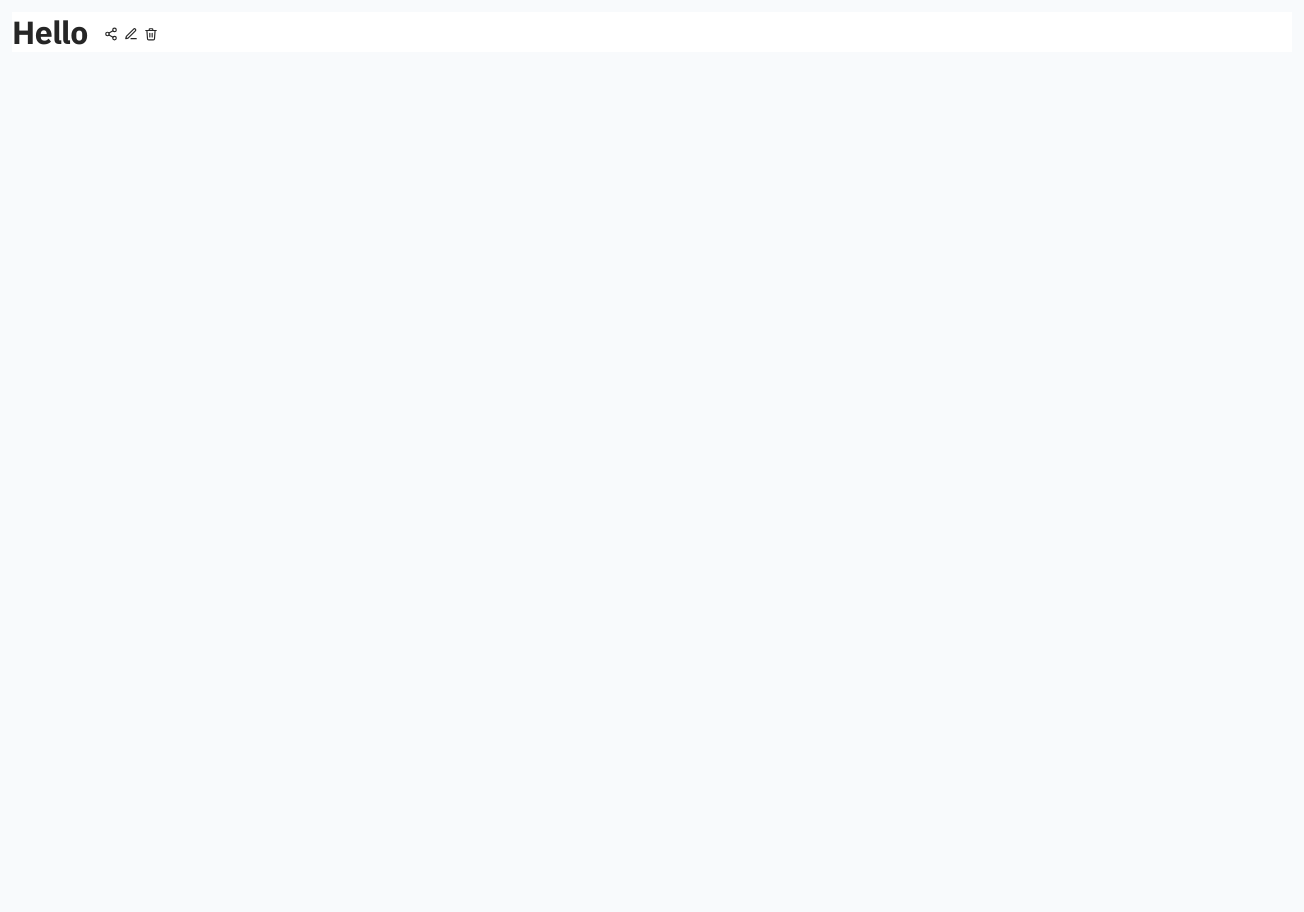
it: InlineMarkdownEditor 문서 내 찾기 › 편집 모드: 원문 기준으로 세고 순환한다
This screenshot has width=1304, height=912.
Press e
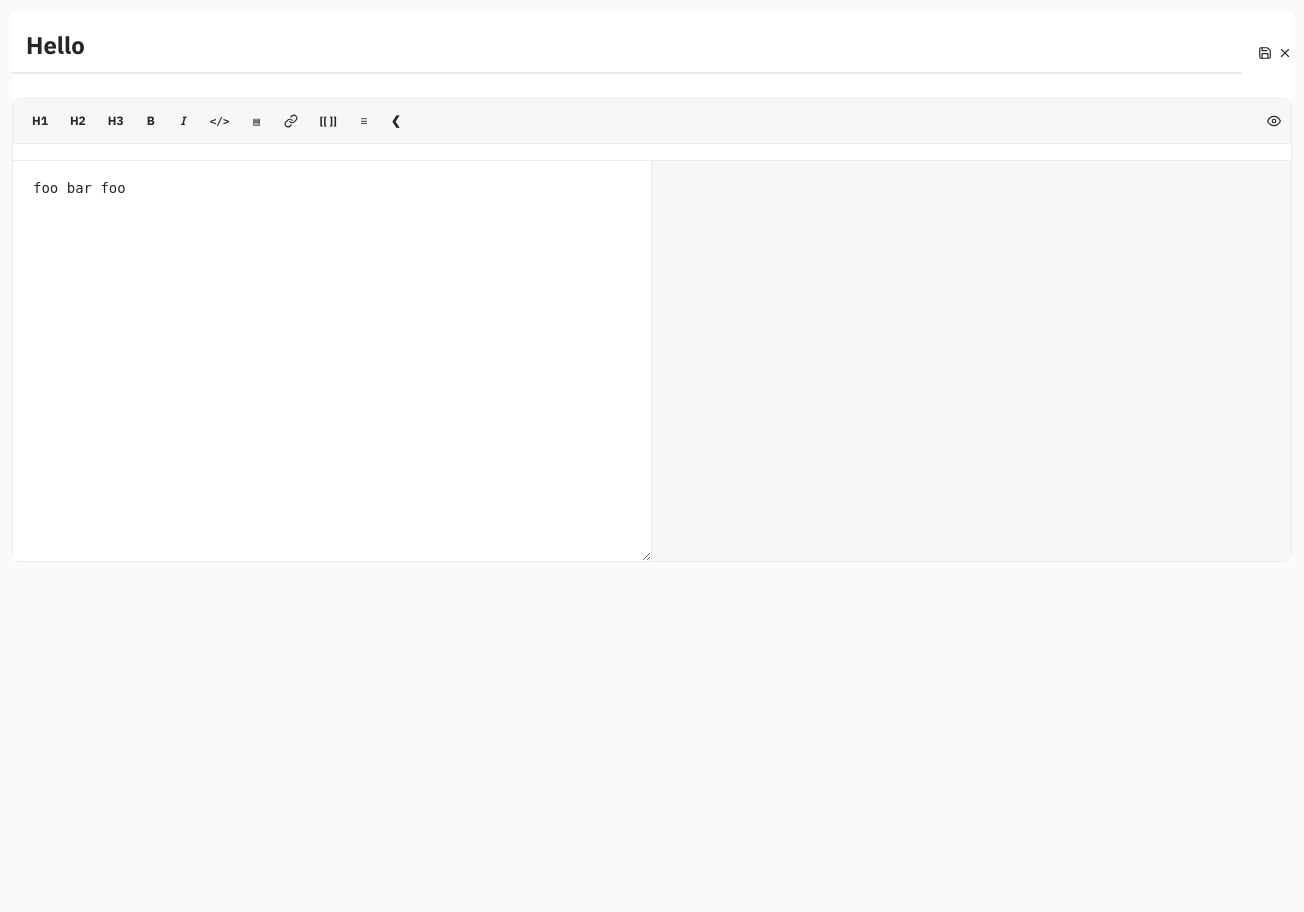
Press f
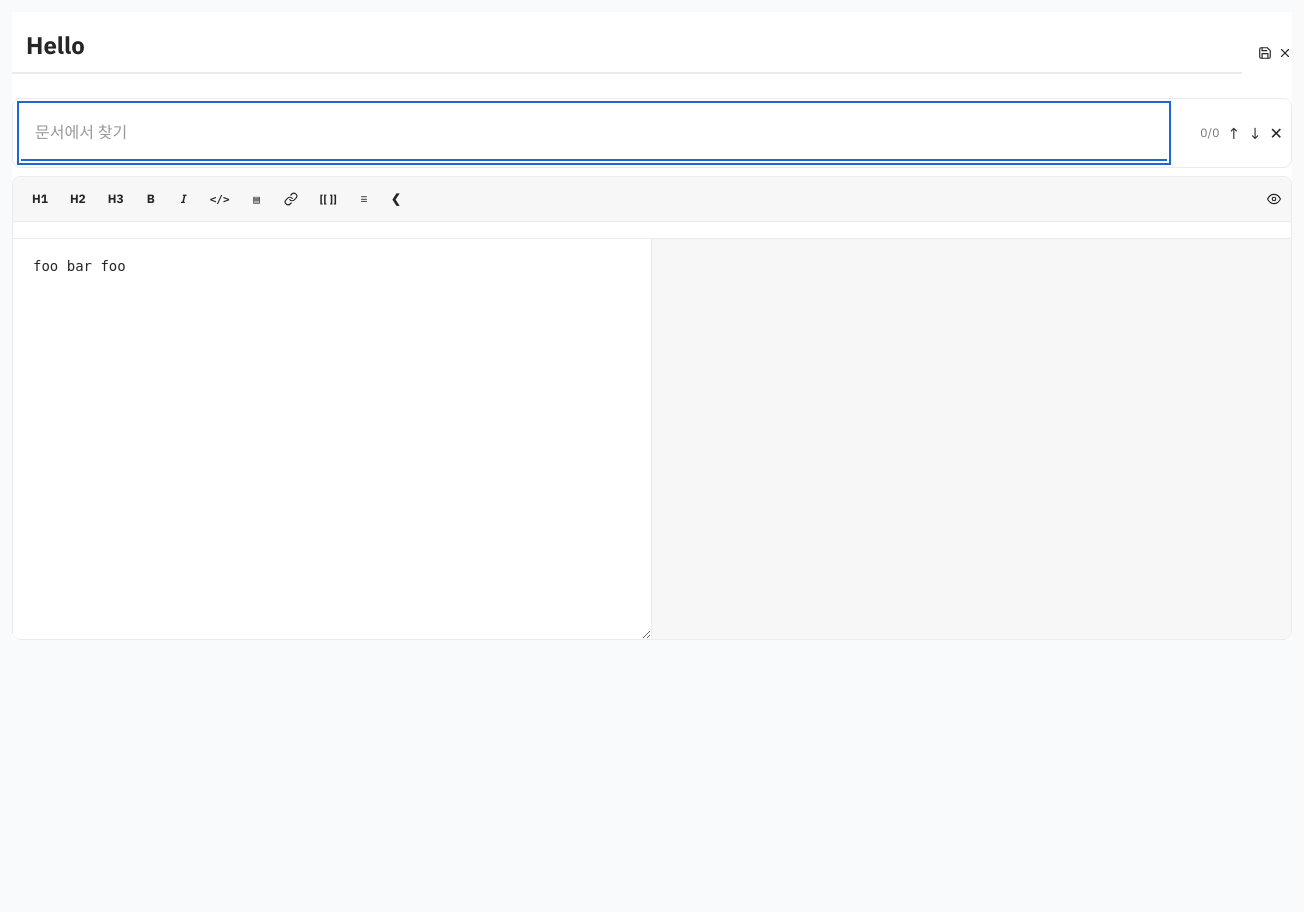
Type "foo" into the field named "문서 내 찾기".
click(594, 133); type("foo")  # box top-left (21, 105), bottom-right (1167, 161)
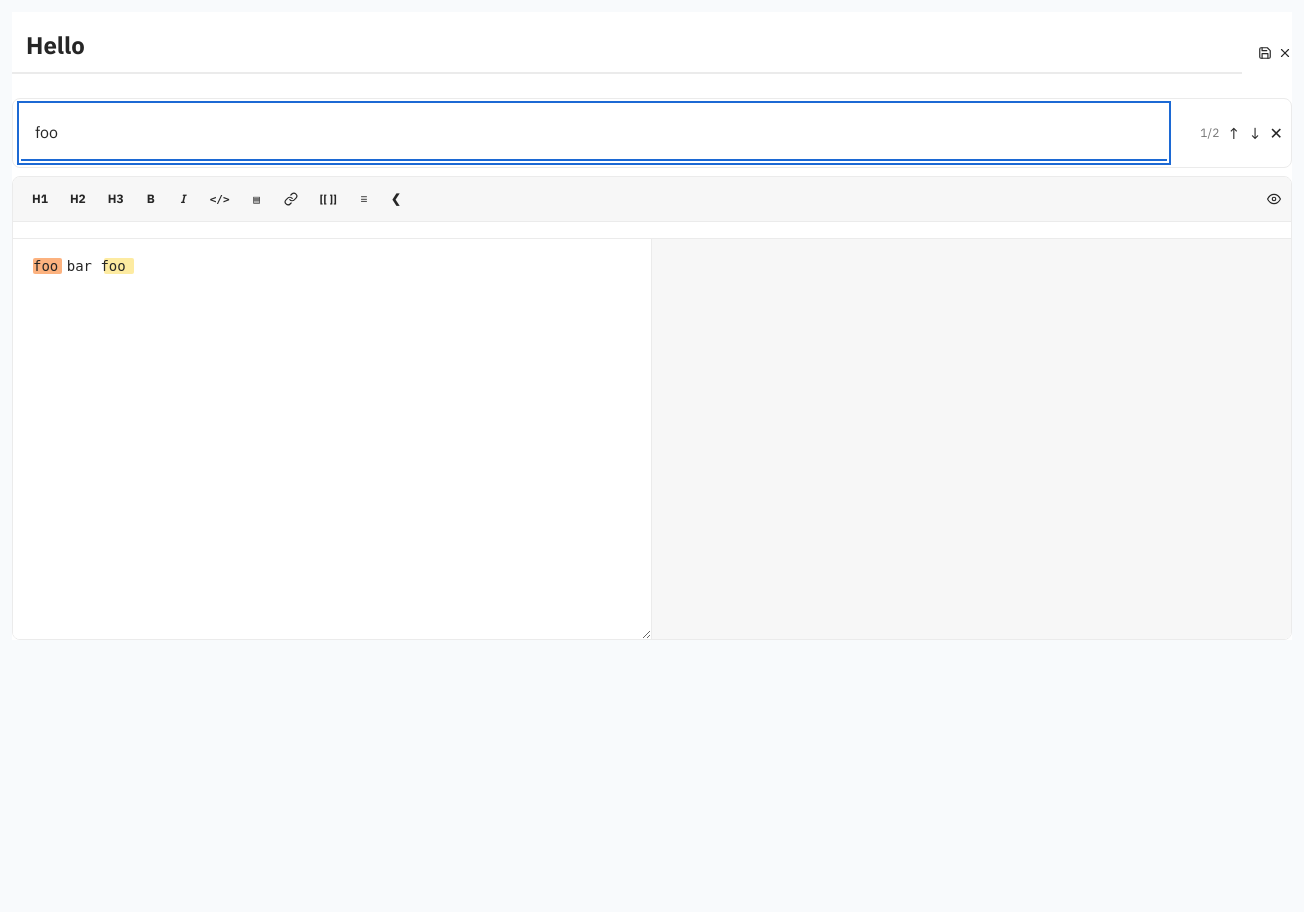
Check: the text "1/2" is shown, box top-left (1200, 125), bottom-right (1219, 140)
Press Enter in the field named "문서 내 찾기" next to "1/2", box top-left (21, 105), bottom-right (1167, 161)
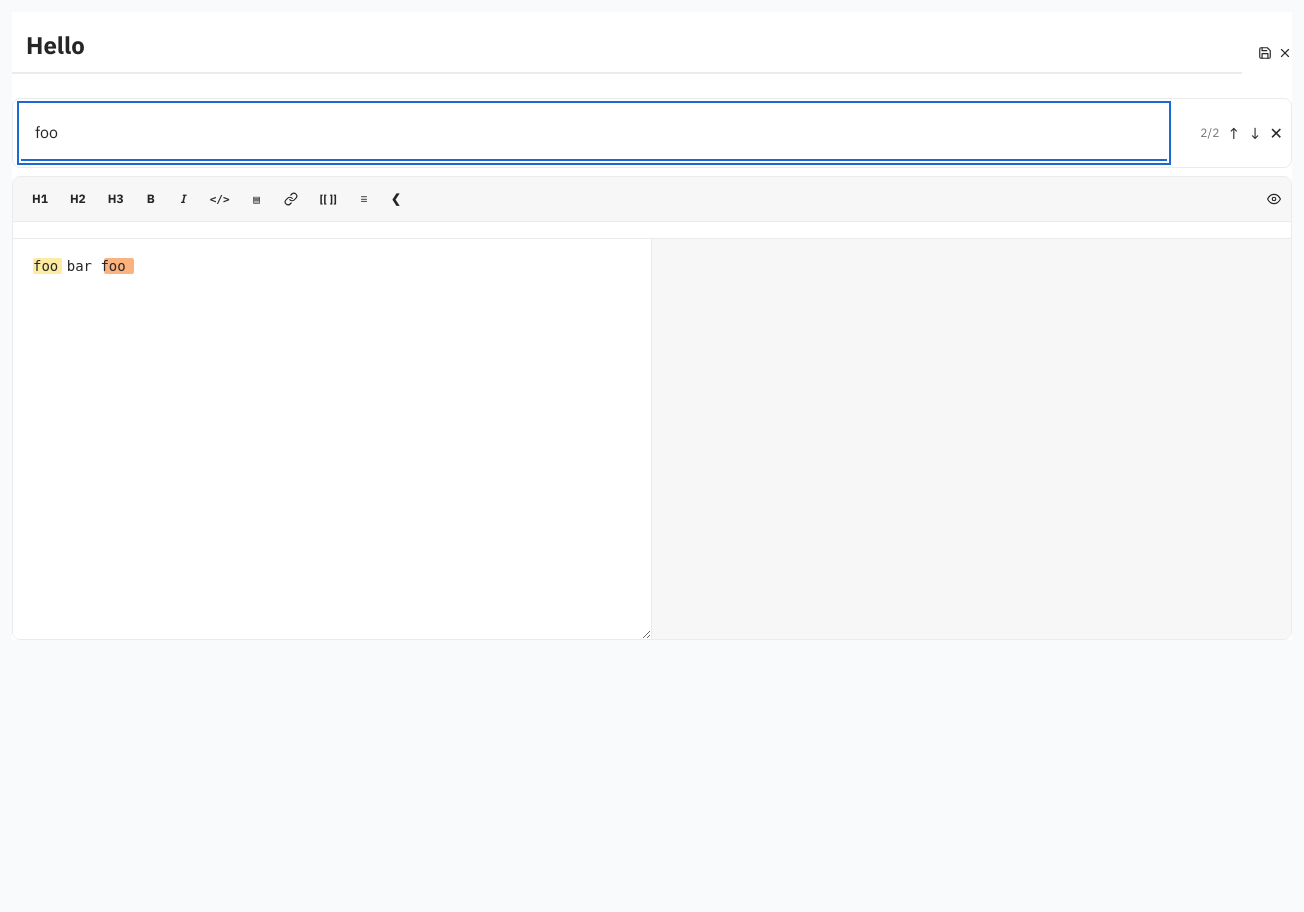
Check: the text "2/2" is shown, box top-left (1200, 125), bottom-right (1219, 140)
Press Enter in the field named "문서 내 찾기" next to "2/2", box top-left (21, 105), bottom-right (1167, 161)
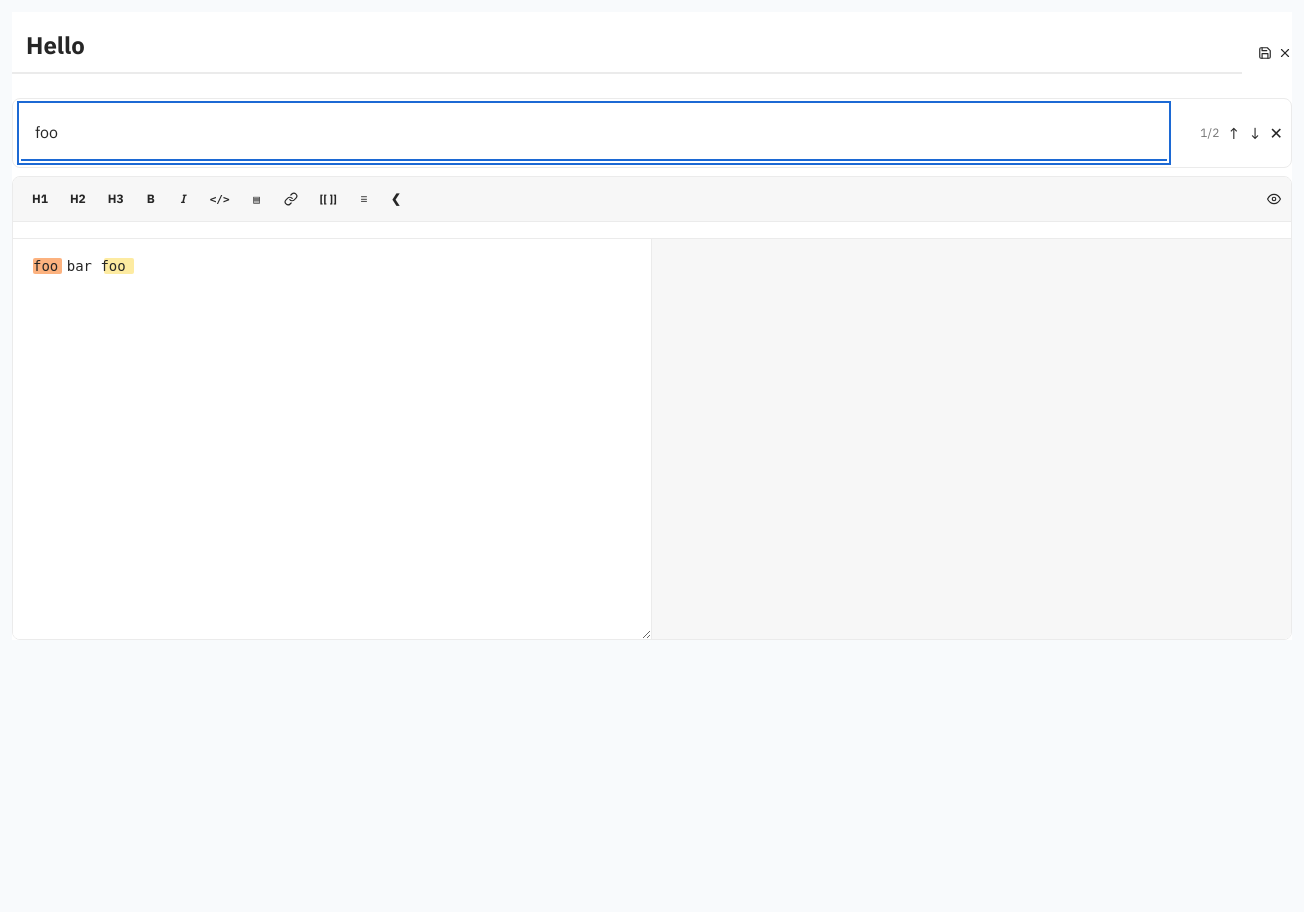
Check: the text "1/2" is shown, box top-left (1200, 125), bottom-right (1219, 140)
